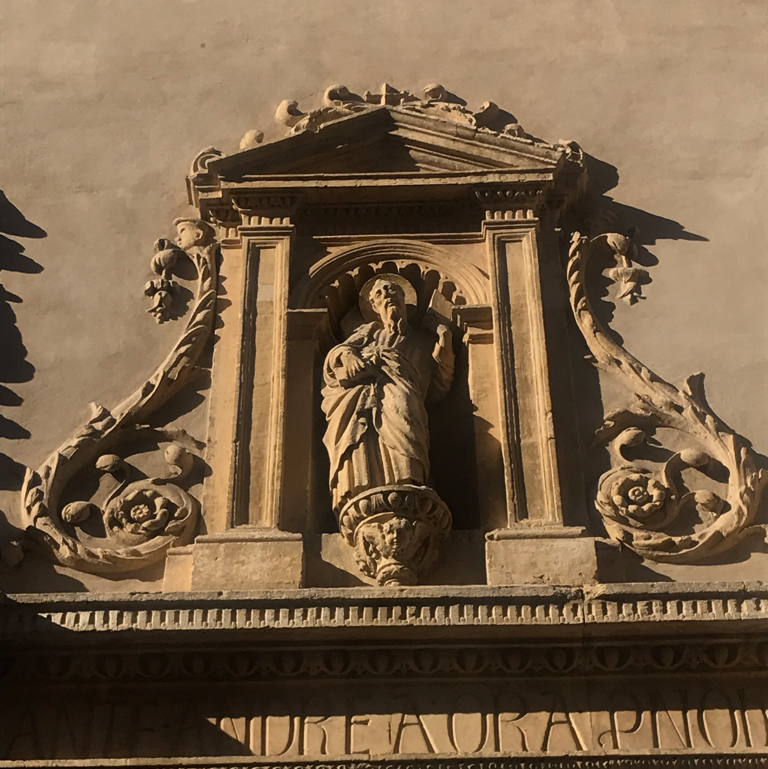fronton: (186, 99, 574, 202)
